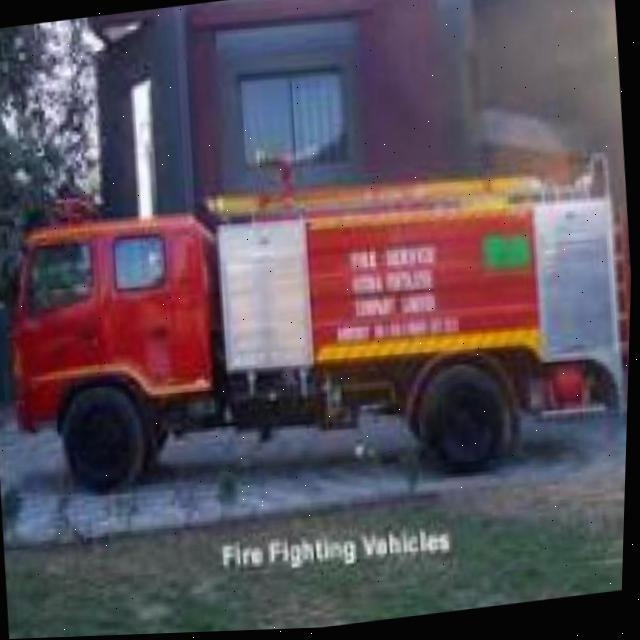emergency: (0, 125, 637, 528)
